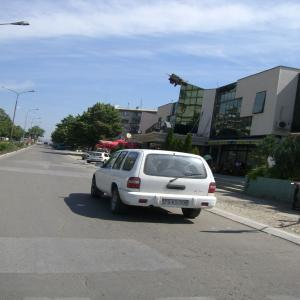Vehicle-registration-plate: (162, 200, 190, 207)
